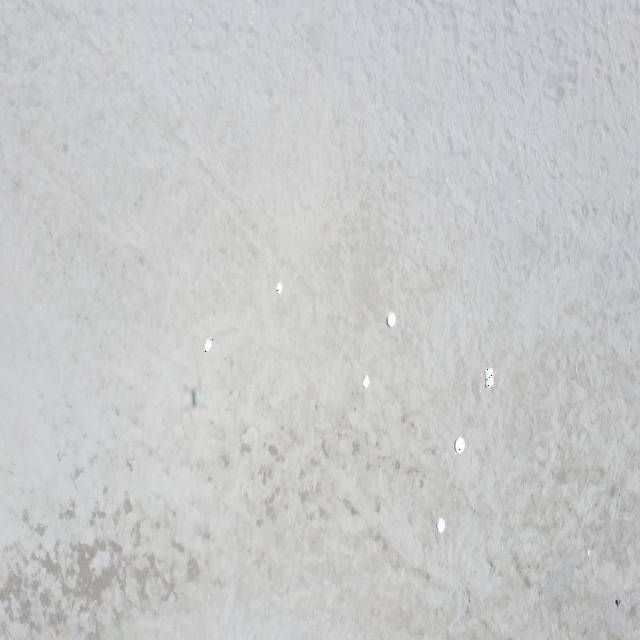take-away-containers: (484, 369, 494, 388), (455, 437, 465, 455), (388, 312, 397, 329), (362, 372, 370, 390), (437, 518, 445, 534), (206, 338, 213, 354), (277, 282, 284, 295)
